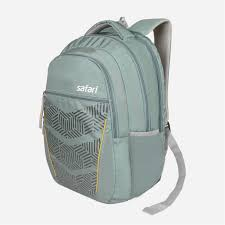backpack: (38, 16, 186, 214)
